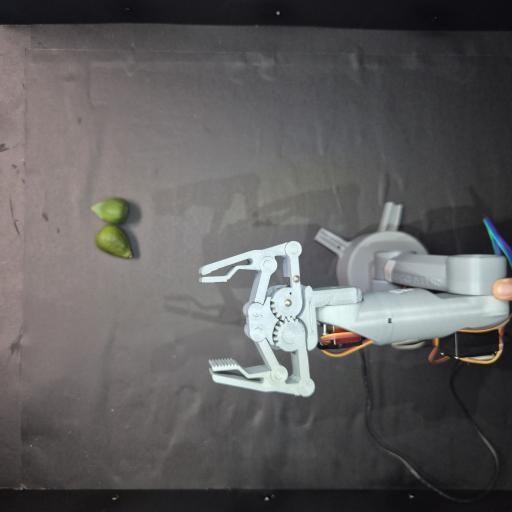higo: (95, 225, 132, 258), (91, 198, 129, 225)
